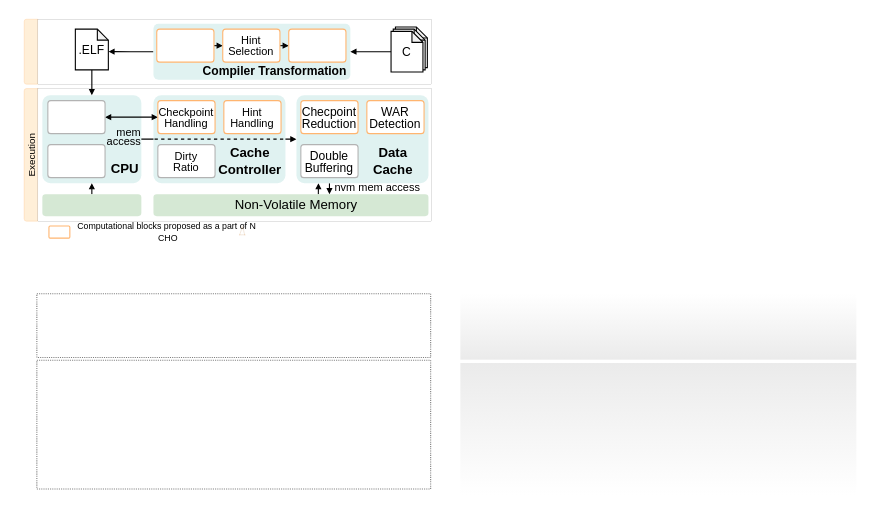
The diagram is 876 pixels wide and 514 high, and some of its shapes have lost their labels. Here are the shapes that lost their labels. From the top down, the centre of each, then its label:
At (x=31, y=51): "Compilation".
At (x=185, y=45): "Memory Analysis".
At (x=317, y=45): "Hint Placement".
At (x=76, y=117): "Checkpoint Creation".
At (x=76, y=161): "Checkpoint Restoration".
At (x=91, y=205): "Energy Harvesting".
